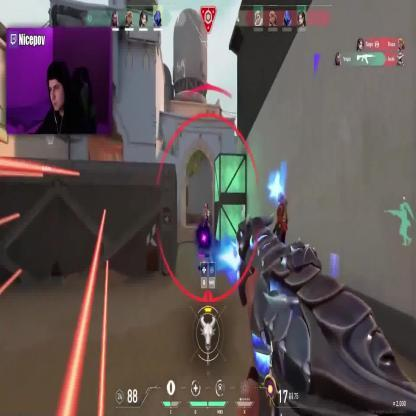enemy: (202, 203, 210, 238)
enemy_head: (204, 202, 209, 212)
